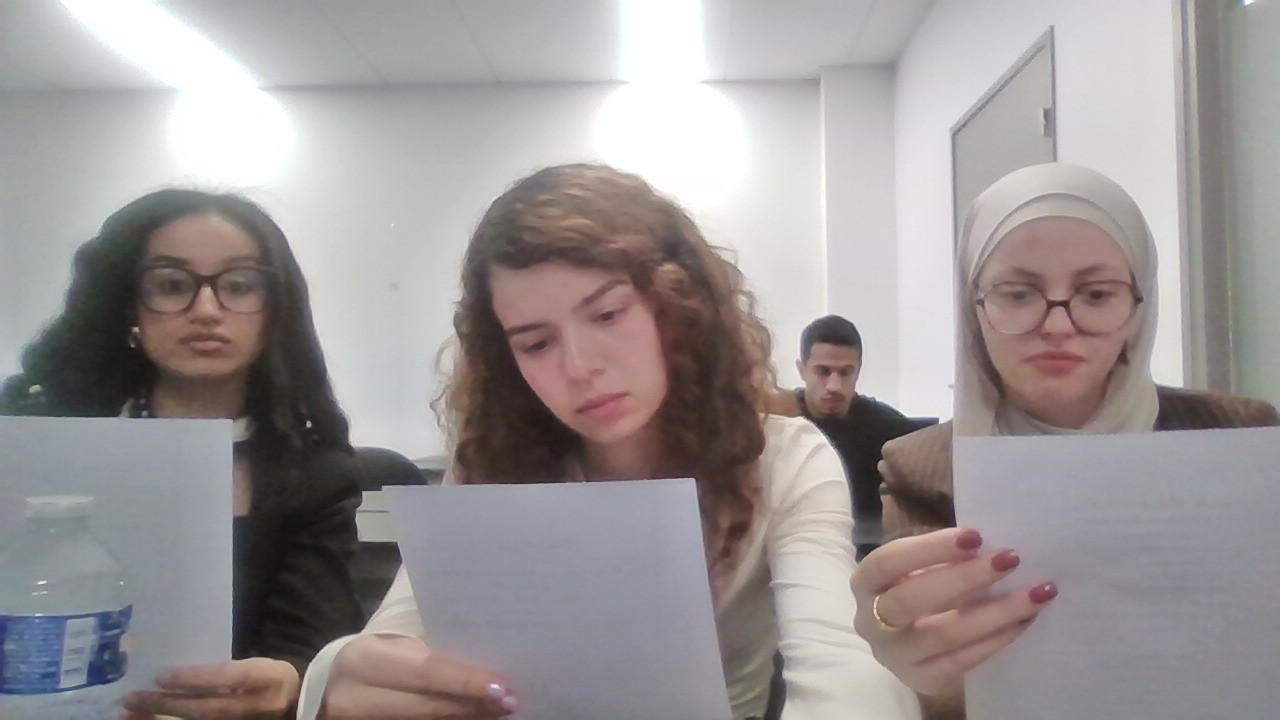reading: (353, 113, 801, 720), (897, 129, 1261, 659), (780, 289, 910, 482)
